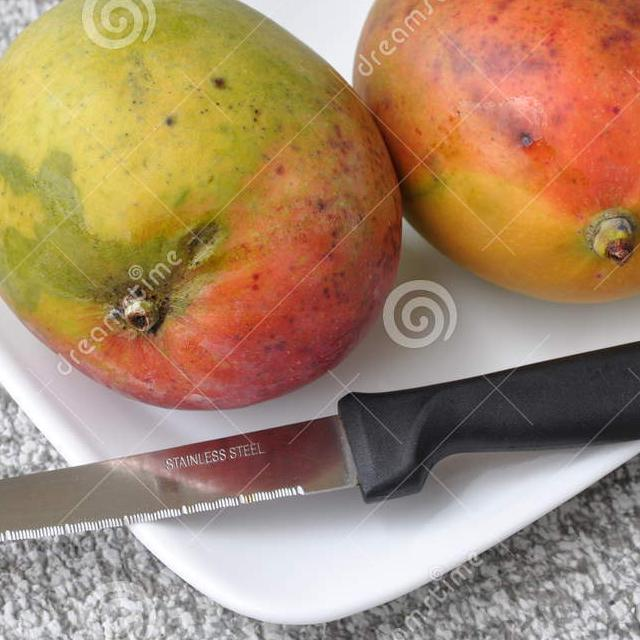Mango: (0, 0, 403, 410), (352, 0, 640, 303)
